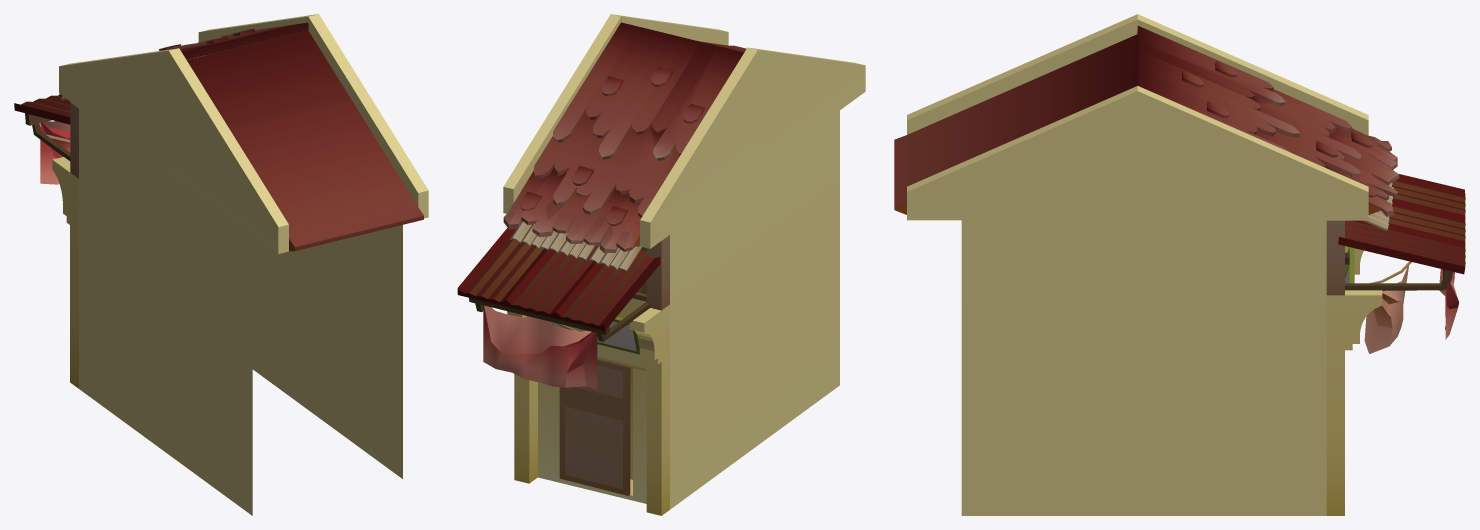
File: SM_Facade_OldQuarter_Simple_01.fbx
3 views of the same model, side by side, from view 1: azimuth 30°, elevation 25°; view 2: azimuth 150°, elevation 25°; view 3: azimuth 270°, elevation 25° (orthographic). The views are drawn at different scales.
Parts seen in each view (by area): view 1: SM_Facade_OldQuarter_Simple_01; view 2: SM_Facade_OldQuarter_Simple_01; view 3: SM_Facade_OldQuarter_Simple_01.
Part boxes in pixels (left/top/right/bottom): SM_Facade_OldQuarter_Simple_01: left=14, top=14, right=428, bottom=515; SM_Facade_OldQuarter_Simple_01: left=457, top=14, right=865, bottom=515; SM_Facade_OldQuarter_Simple_01: left=894, top=14, right=1465, bottom=515.
Size of the model in its own units: 302 by 770 by 938.
